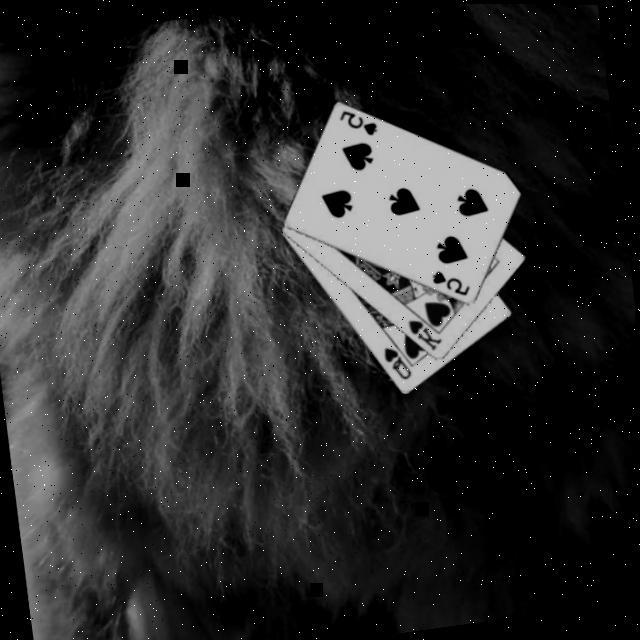5S: (430, 260, 476, 300), (337, 100, 382, 140)
KH: (406, 310, 448, 354)
QH: (380, 339, 418, 383)
